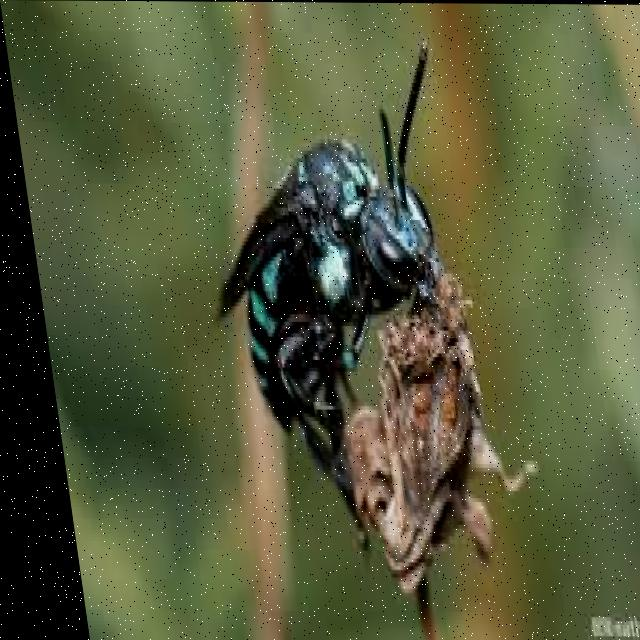Thyreus: (167, 32, 496, 496)
